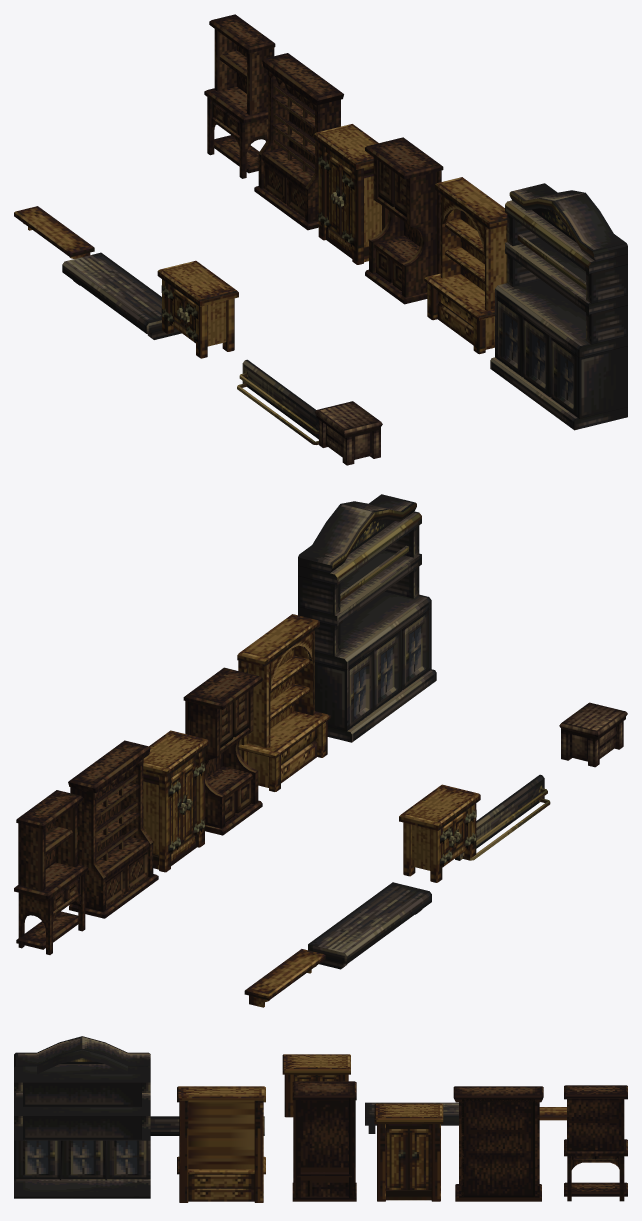
The model's file is EnvObjMD_Furniture_A_Cupboard_A.FBX.
3 views of the same model, one above another, from view 1: azimuth 30°, elevation 25°; view 2: azimuth 150°, elevation 25°; view 3: azimuth 270°, elevation 25° (orthographic). The views are drawn at different scales.
Visible parts, largest first — view 1: EnvObjMD_Furniture_C_Cupboard_A, EnvObjMD_Furniture_B_Cupboard_A, EnvObjMD_Furniture_A_Cupboard_A, EnvObjMD_Furniture_A_Cupboard_B, EnvObjMD_Furniture_A_Cupboard_C, EnvObjMD_Furniture_B_Closet_A, EnvObjMD_Furniture_B_Closet_B, EnvObjMD_Furniture_C_Shelf_A, EnvObjMD_Furniture_Chest_A, EnvObjMD_Furniture_C_Shelf_B, EnvObjMD_Furniture_B_Shelf_A; view 2: EnvObjMD_Furniture_C_Cupboard_A, EnvObjMD_Furniture_B_Cupboard_A, EnvObjMD_Furniture_A_Cupboard_B, EnvObjMD_Furniture_A_Cupboard_C, EnvObjMD_Furniture_A_Cupboard_A, EnvObjMD_Furniture_B_Closet_A, EnvObjMD_Furniture_B_Closet_B, EnvObjMD_Furniture_C_Shelf_A, EnvObjMD_Furniture_Chest_A, EnvObjMD_Furniture_C_Shelf_B, EnvObjMD_Furniture_B_Shelf_A; view 3: EnvObjMD_Furniture_C_Cupboard_A, EnvObjMD_Furniture_B_Cupboard_A, EnvObjMD_Furniture_A_Cupboard_B, EnvObjMD_Furniture_A_Cupboard_A, EnvObjMD_Furniture_B_Closet_A, EnvObjMD_Furniture_A_Cupboard_C, EnvObjMD_Furniture_B_Closet_B, EnvObjMD_Furniture_C_Shelf_A, EnvObjMD_Furniture_C_Shelf_B, EnvObjMD_Furniture_B_Shelf_A.
Boxes of the visible parts, left/top/right/bottom form: EnvObjMD_Furniture_C_Cupboard_A: left=490, top=183, right=627, bottom=430; EnvObjMD_Furniture_B_Cupboard_A: left=424, top=177, right=507, bottom=354; EnvObjMD_Furniture_A_Cupboard_A: left=365, top=137, right=443, bottom=304; EnvObjMD_Furniture_A_Cupboard_B: left=254, top=53, right=343, bottom=230; EnvObjMD_Furniture_A_Cupboard_C: left=204, top=14, right=275, bottom=178; EnvObjMD_Furniture_B_Closet_A: left=314, top=124, right=388, bottom=264; EnvObjMD_Furniture_B_Closet_B: left=157, top=260, right=238, bottom=358; EnvObjMD_Furniture_C_Shelf_A: left=62, top=252, right=181, bottom=339; EnvObjMD_Furniture_Chest_A: left=314, top=401, right=382, bottom=465; EnvObjMD_Furniture_C_Shelf_B: left=237, top=359, right=318, bottom=444; EnvObjMD_Furniture_B_Shelf_A: left=14, top=206, right=94, bottom=258; EnvObjMD_Furniture_C_Cupboard_A: left=298, top=494, right=436, bottom=742; EnvObjMD_Furniture_B_Cupboard_A: left=237, top=614, right=330, bottom=791; EnvObjMD_Furniture_A_Cupboard_B: left=68, top=740, right=158, bottom=918; EnvObjMD_Furniture_A_Cupboard_C: left=14, top=790, right=87, bottom=954; EnvObjMD_Furniture_A_Cupboard_A: left=183, top=667, right=262, bottom=835; EnvObjMD_Furniture_B_Closet_A: left=143, top=730, right=209, bottom=872; EnvObjMD_Furniture_B_Closet_B: left=399, top=784, right=480, bottom=882; EnvObjMD_Furniture_C_Shelf_A: left=308, top=882, right=431, bottom=969; EnvObjMD_Furniture_Chest_A: left=559, top=702, right=627, bottom=767; EnvObjMD_Furniture_C_Shelf_B: left=455, top=774, right=550, bottom=860; EnvObjMD_Furniture_B_Shelf_A: left=244, top=949, right=325, bottom=1007; EnvObjMD_Furniture_C_Cupboard_A: left=14, top=1036, right=150, bottom=1198; EnvObjMD_Furniture_B_Cupboard_A: left=177, top=1086, right=265, bottom=1202; EnvObjMD_Furniture_A_Cupboard_B: left=453, top=1086, right=543, bottom=1201; EnvObjMD_Furniture_A_Cupboard_A: left=292, top=1081, right=356, bottom=1201; EnvObjMD_Furniture_B_Closet_A: left=374, top=1103, right=443, bottom=1201; EnvObjMD_Furniture_A_Cupboard_C: left=564, top=1085, right=627, bottom=1201; EnvObjMD_Furniture_B_Closet_B: left=282, top=1054, right=350, bottom=1117; EnvObjMD_Furniture_C_Shelf_A: left=365, top=1102, right=458, bottom=1133; EnvObjMD_Furniture_C_Shelf_B: left=150, top=1116, right=264, bottom=1135; EnvObjMD_Furniture_B_Shelf_A: left=539, top=1107, right=566, bottom=1120.
Size of the model in its own units: 545 by 425 by 1345.
4 materials, 4 textured.
